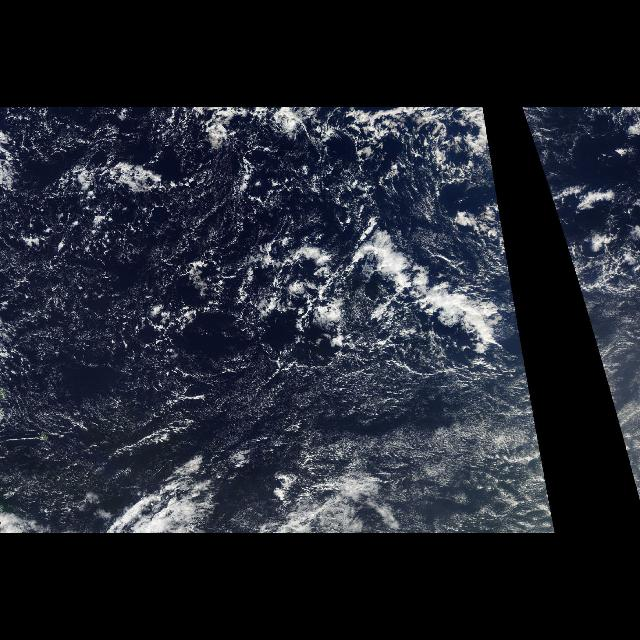Fish: (309, 196, 527, 360)
Gravel: (6, 112, 358, 468)
Sugar: (2, 196, 294, 449), (314, 371, 556, 531), (602, 372, 638, 494)
